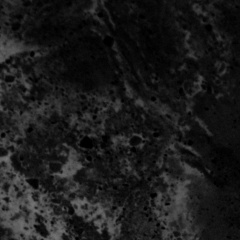Vegetation: (156, 178, 190, 240), (20, 183, 46, 240), (1, 160, 17, 240), (72, 199, 118, 219), (1, 35, 27, 67), (11, 103, 49, 124), (75, 113, 104, 139), (61, 147, 82, 177), (94, 220, 125, 236), (177, 160, 200, 178), (49, 219, 66, 237)
